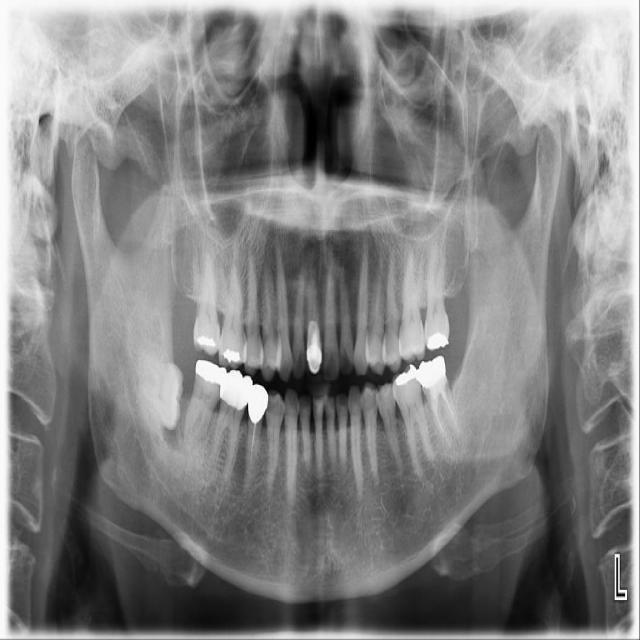52: (384, 362, 429, 408), (215, 367, 257, 411), (414, 354, 452, 396), (190, 312, 224, 357), (217, 323, 249, 370), (422, 308, 450, 354), (248, 384, 268, 423), (307, 337, 323, 377)
73: (423, 380, 468, 446), (239, 416, 263, 505), (599, 574, 605, 582)
BioHorizons Implant: (423, 238, 453, 353)
Blue Sky Bio Implant: (414, 354, 466, 447)
Caries: (192, 245, 225, 357)
Implant: (178, 357, 231, 453)
Keystone Dental Implant: (129, 358, 185, 430)
